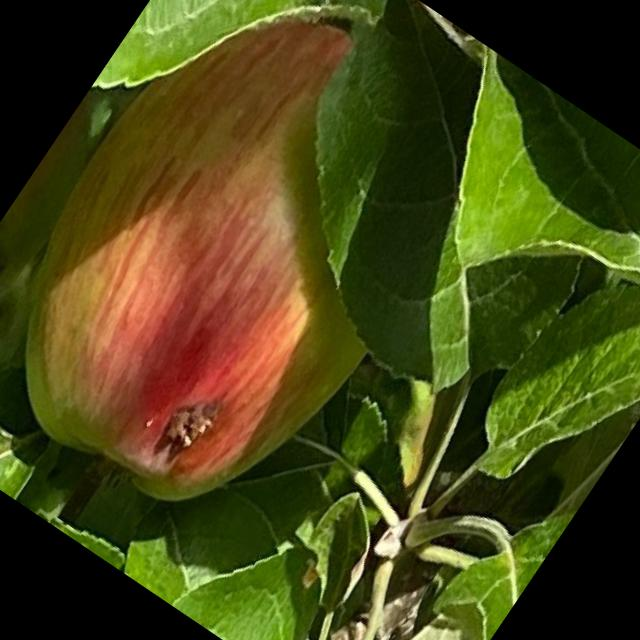Apples: (0, 0, 506, 556)
